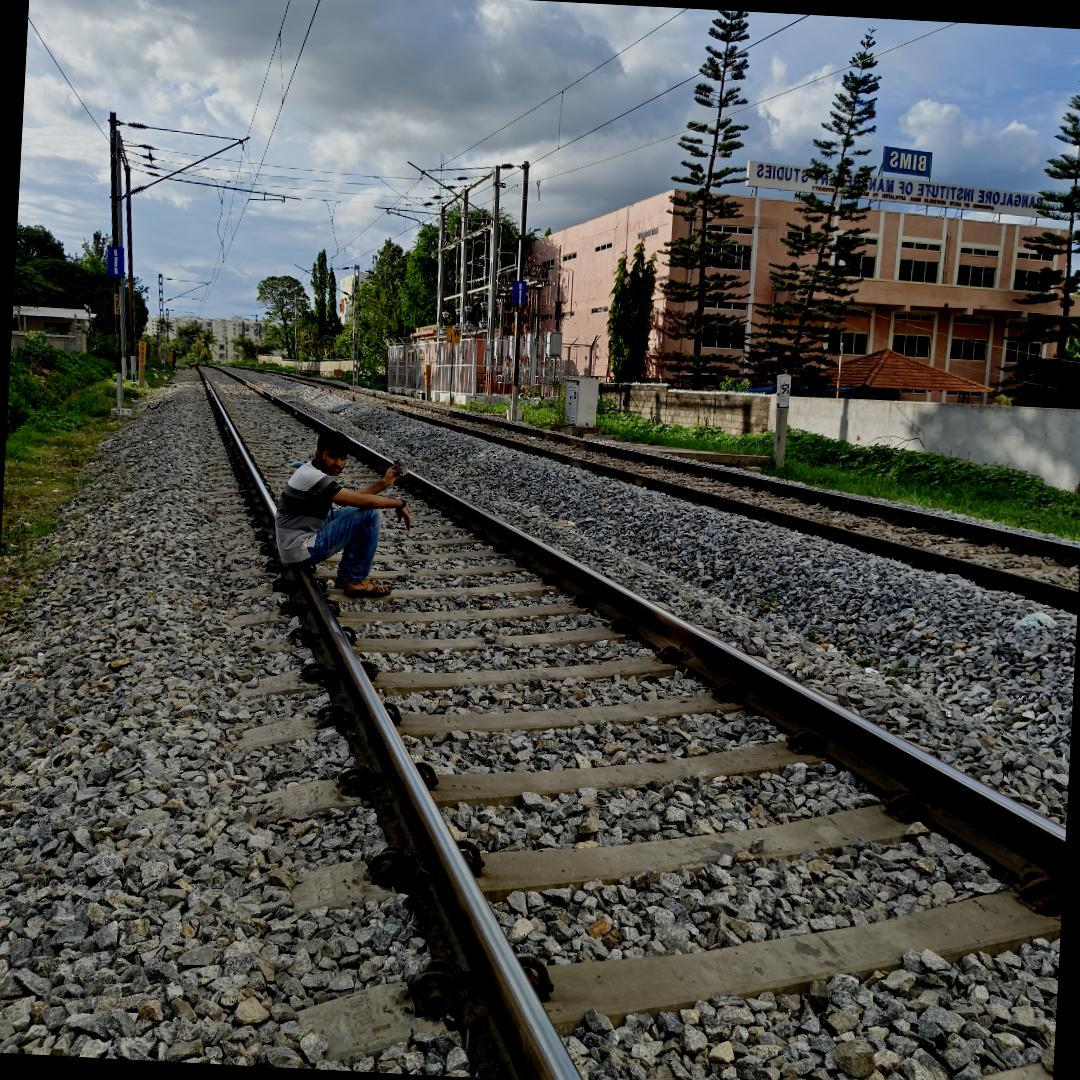sitting: (263, 419, 418, 609)
